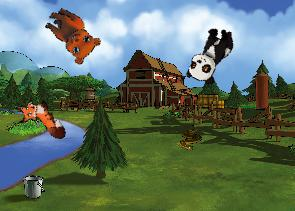bear: (35, 3, 105, 68)
fox: (11, 90, 69, 152)
panda: (183, 21, 238, 88)
